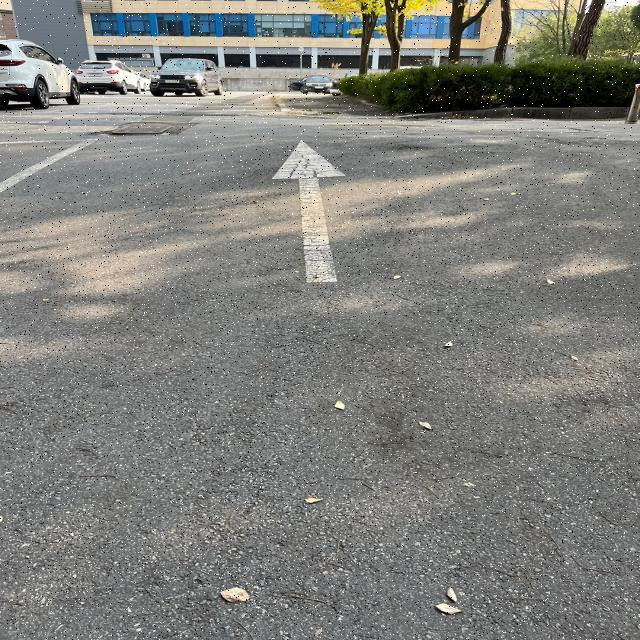forward: (139, 126, 483, 336)
